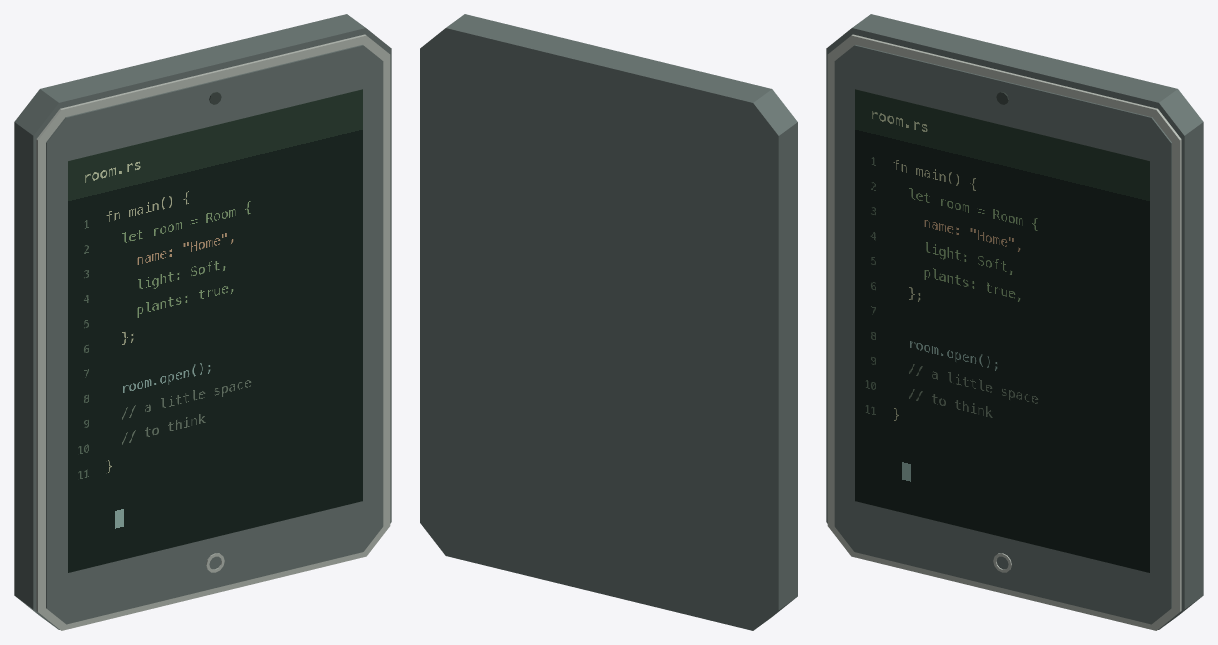
File: code-tablet.glb
3 views of the same model, side by side, from view 1: azimuth 30°, elevation 25°; view 2: azimuth 150°, elevation 25°; view 3: azimuth 330°, elevation 25° (orthographic).
Visible parts, largest first — view 1: code-tablet; view 2: code-tablet; view 3: code-tablet.
Boxes of the visible parts, left/top/right/bottom form: code-tablet: left=14, top=14, right=391, bottom=630; code-tablet: left=420, top=14, right=797, bottom=630; code-tablet: left=826, top=14, right=1203, bottom=630.
Size of the model in its own units: 0.91 by 1.28 by 0.098.
Materials: 5 (1 with a texture image).
